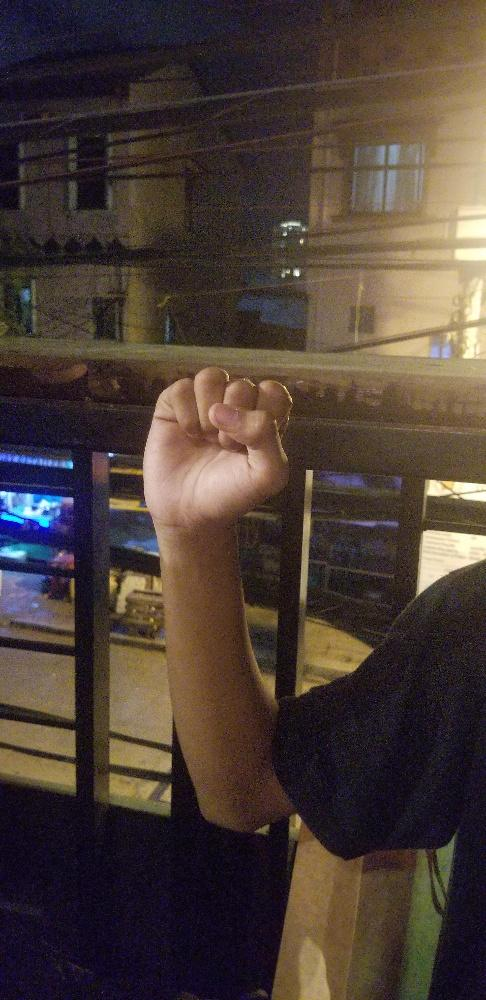s: (139, 365, 292, 523)
